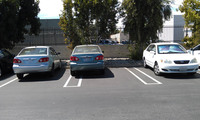car: (143, 41, 198, 76), (14, 45, 62, 79), (70, 44, 103, 75)
